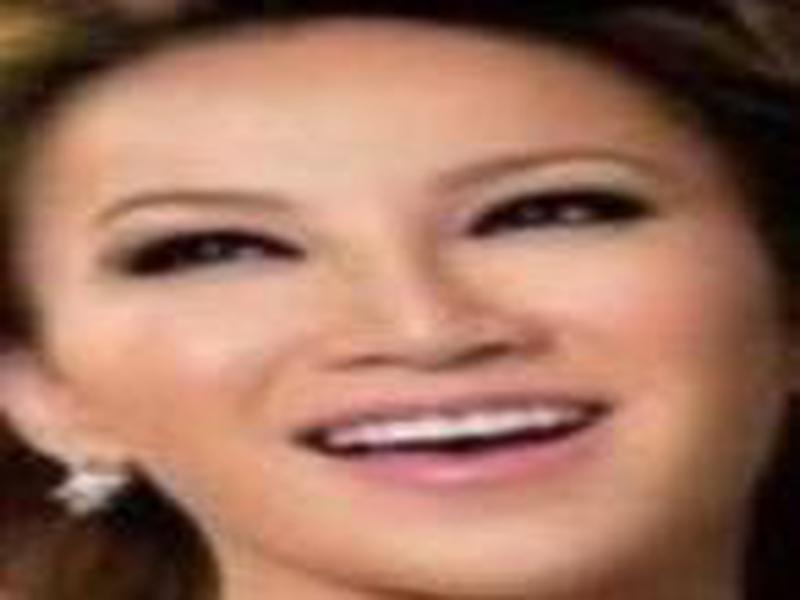without_mask: (29, 36, 783, 591)
